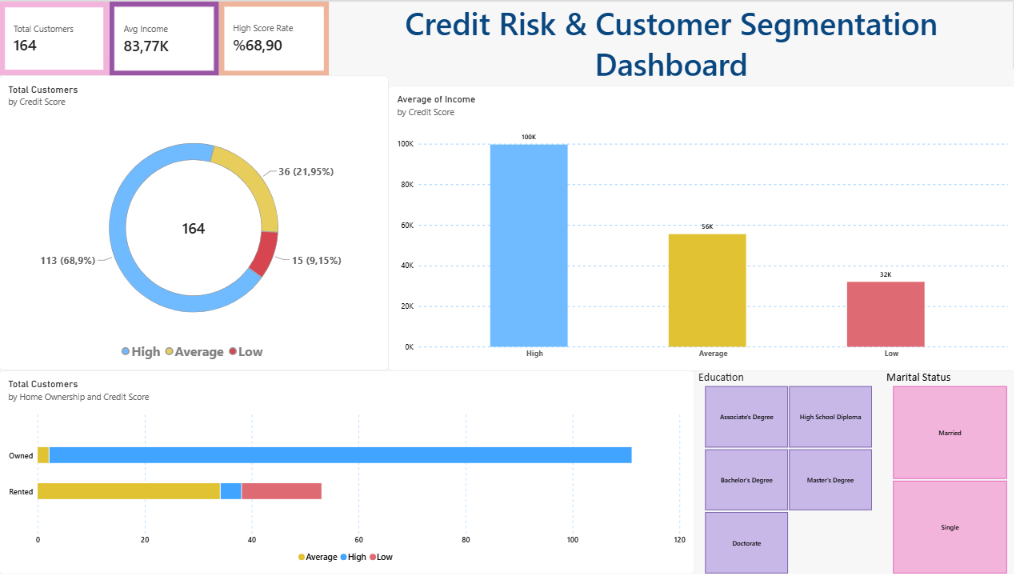

What the dashboard file says about the page in this screenshot:
{"tool":"powerbi","page":{"name":"Page 1","canvas":[1920,1080],"ordinal":0},"visuals":[{"type":"cardVisual","fields":{"Data":["Credit Score Classification Dataset (2).Total Customers"]},"box":[0,0,207,139.4],"z":0},{"type":"cardVisual","fields":{"Data":["Credit Score Classification Dataset (2).Avg Income"]},"box":[207.1,0,207.1,140],"z":1000},{"type":"cardVisual","fields":{"Data":["Credit Score Classification Dataset (2).High Score Rate"]},"box":[414.3,0,207.1,140],"z":2000},{"type":"donutChart","fields":{"Category":["Credit Score Classification Dataset (2).Credit Score"],"Y":["Credit Score Classification Dataset (2).Total Customers"]},"box":[0,140,734,556],"z":3000},{"type":"columnChart","fields":{"Category":["Credit Score Classification Dataset (2).Credit Score"],"Y":["Avg(Credit Score Classification Dataset (2).Income)"]},"box":[734,158,1186,538],"z":4000},{"type":"barChart","fields":{"Category":["Credit Score Classification Dataset (2).Home Ownership"],"Series":["Credit Score Classification Dataset (2).Credit Score"],"Y":["Credit Score Classification Dataset (2).Total Customers"]},"box":[0,696,1312,384],"z":5000},{"type":"slicer","fields":{"Values":["Credit Score Classification Dataset (2).Education"]},"box":[1312,696,354,384],"z":6000},{"type":"slicer","fields":{"Values":["Credit Score Classification Dataset (2).Marital Status"]},"box":[1666,696,254,384],"z":7000},{"type":"textbox","box":[622,0,1298,140],"z":8000}]}

Visuals, with their boxes in screenshot pixels (x1, y1, x2, y2), scaled from the page's 1920x1080 canvas onto the 1014x574 screenshot:
cardVisual - Credit Score Classification Dataset (2).Total Customers: pyautogui.locateOnScreen(0, 0, 109, 74)
cardVisual - Credit Score Classification Dataset (2).Avg Income: pyautogui.locateOnScreen(109, 0, 219, 74)
cardVisual - Credit Score Classification Dataset (2).High Score Rate: pyautogui.locateOnScreen(219, 0, 328, 74)
donutChart - Credit Score Classification Dataset (2).Credit Score x Credit Score Classification Dataset (2).Total Customers: pyautogui.locateOnScreen(0, 74, 388, 370)
columnChart - Credit Score Classification Dataset (2).Credit Score x Avg(Credit Score Classification Dataset (2).Income): pyautogui.locateOnScreen(388, 84, 1013, 370)
barChart - Credit Score Classification Dataset (2).Home Ownership x Credit Score Classification Dataset (2).Credit Score: pyautogui.locateOnScreen(0, 370, 693, 573)
slicer - Credit Score Classification Dataset (2).Education: pyautogui.locateOnScreen(693, 370, 880, 573)
slicer - Credit Score Classification Dataset (2).Marital Status: pyautogui.locateOnScreen(880, 370, 1013, 573)
textbox: pyautogui.locateOnScreen(328, 0, 1013, 74)
